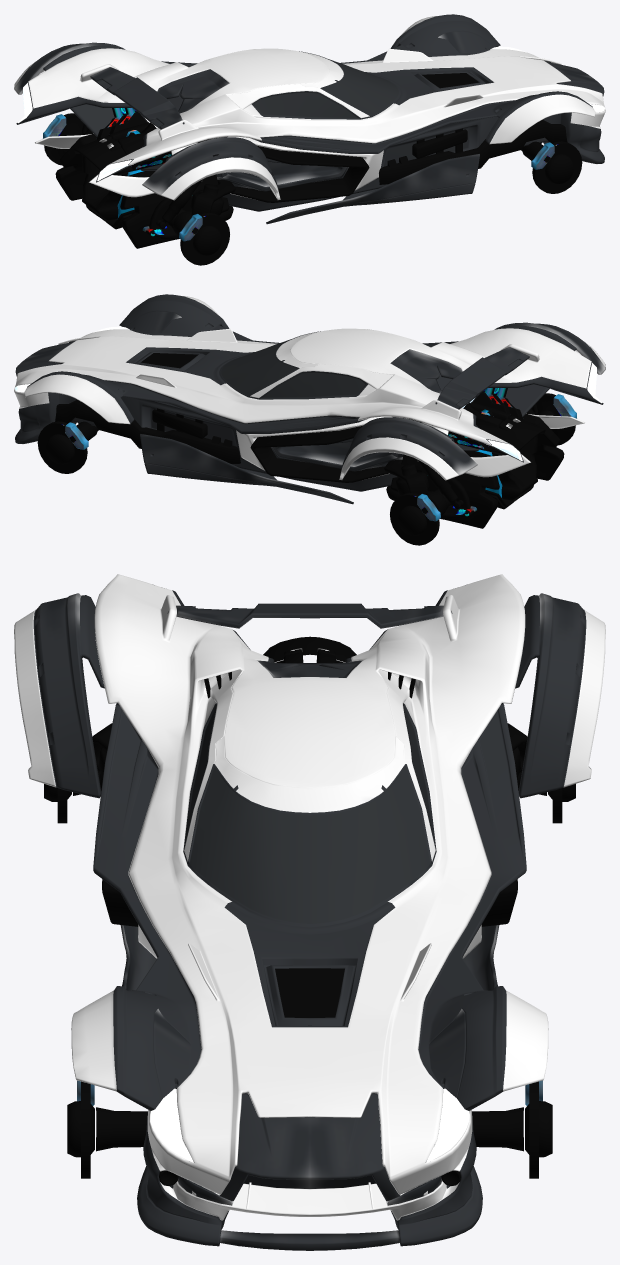
The model's file is sentinel_plank_paintable.glb.
The picture shows the model from 3 angles, top to bottom: view 1: azimuth 30°, elevation 25°; view 2: azimuth 150°, elevation 25°; view 3: azimuth 270°, elevation 25°; orthographic projection. The views are drawn at different scales.
Visible parts, largest first — view 1: body-shell, lower-detail, lamps; view 2: body-shell, lower-detail, lamps; view 3: body-shell, lower-detail, lamps.
Part boxes in pixels (<box>): body-shell: <box>14,14,605,224</box>; lower-detail: <box>43,73,582,265</box>; lamps: <box>18,46,604,181</box>; body-shell: <box>14,294,605,504</box>; lower-detail: <box>37,353,576,545</box>; lamps: <box>15,326,601,461</box>; body-shell: <box>14,574,605,1250</box>; lower-detail: <box>44,636,575,1185</box>; lamps: <box>150,1088,469,1162</box>.
Size of the model in its own units: 166 by 43.75 by 87.47.
Materials: 3 (2 with a texture image).
